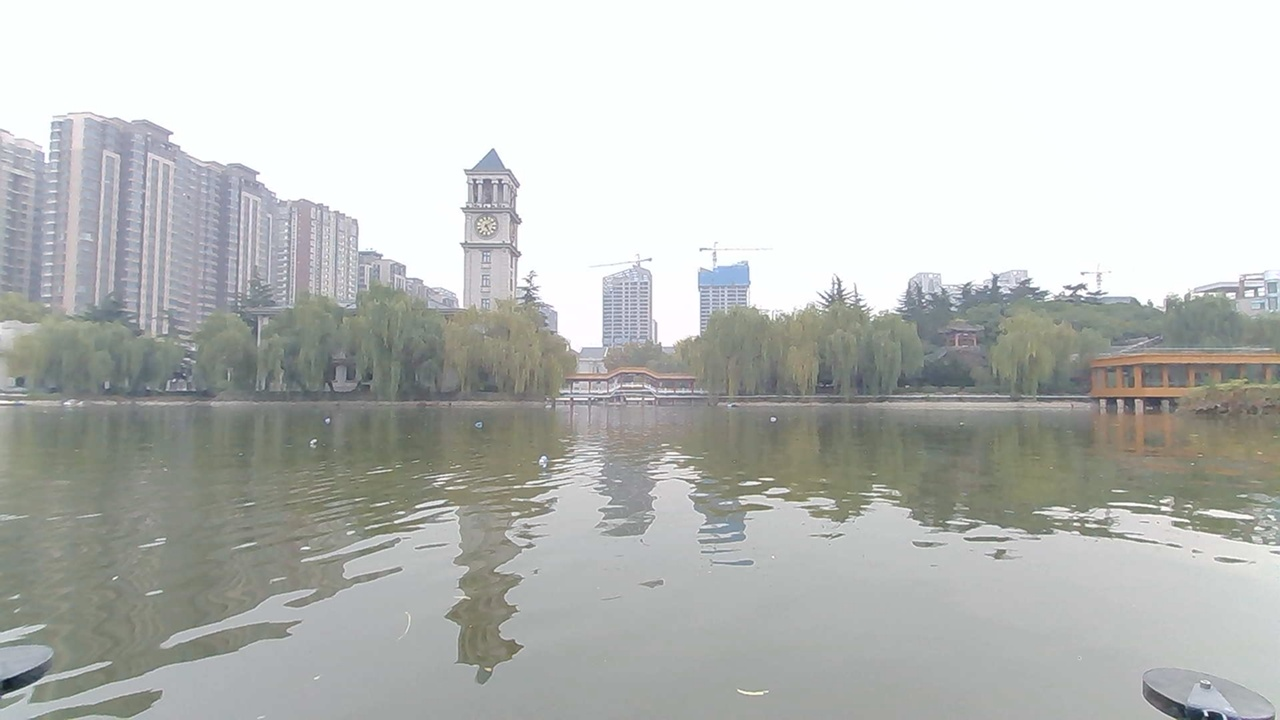bottle: (513, 445, 573, 478), (295, 429, 336, 452), (757, 406, 796, 429), (459, 410, 496, 434), (313, 407, 349, 431)
